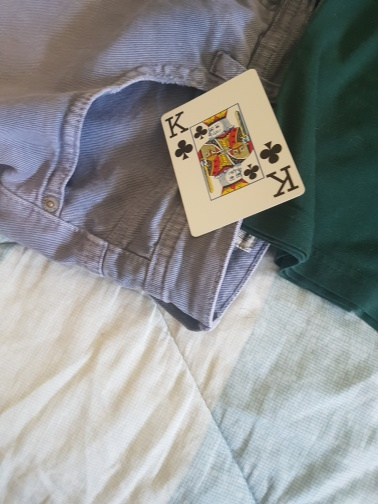king: (159, 66, 306, 236)
